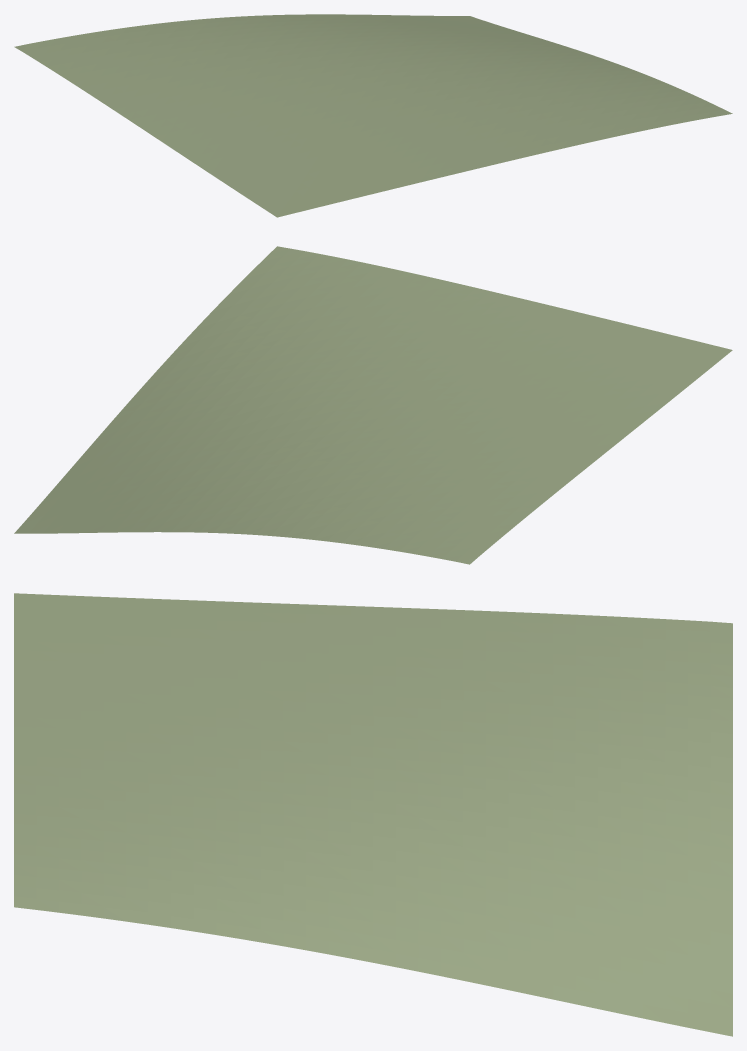
File: expanse-7-9.glb
3 views of the same model, one above another, from view 1: azimuth 30°, elevation 25°; view 2: azimuth 150°, elevation 25°; view 3: azimuth 270°, elevation 25° (orthographic). The views are drawn at different scales.
Parts seen in each view (by area): view 1: expanse-7-9; view 2: expanse-7-9; view 3: expanse-7-9.
Boxes of the visible parts, x1,y1,x2,y2 form: expanse-7-9: (14, 14, 732, 217); expanse-7-9: (14, 246, 732, 564); expanse-7-9: (14, 593, 732, 1036).
Bounding box in the file's own units: 256 × 54.92 × 256.
